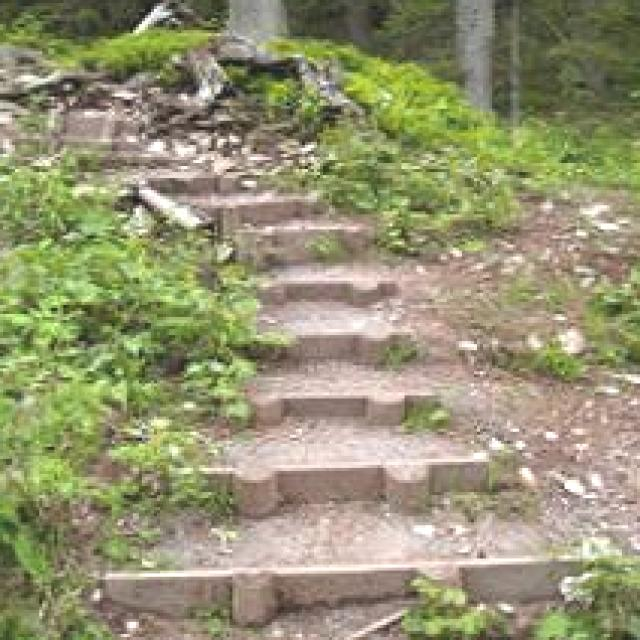upstair: (110, 267, 538, 581)
